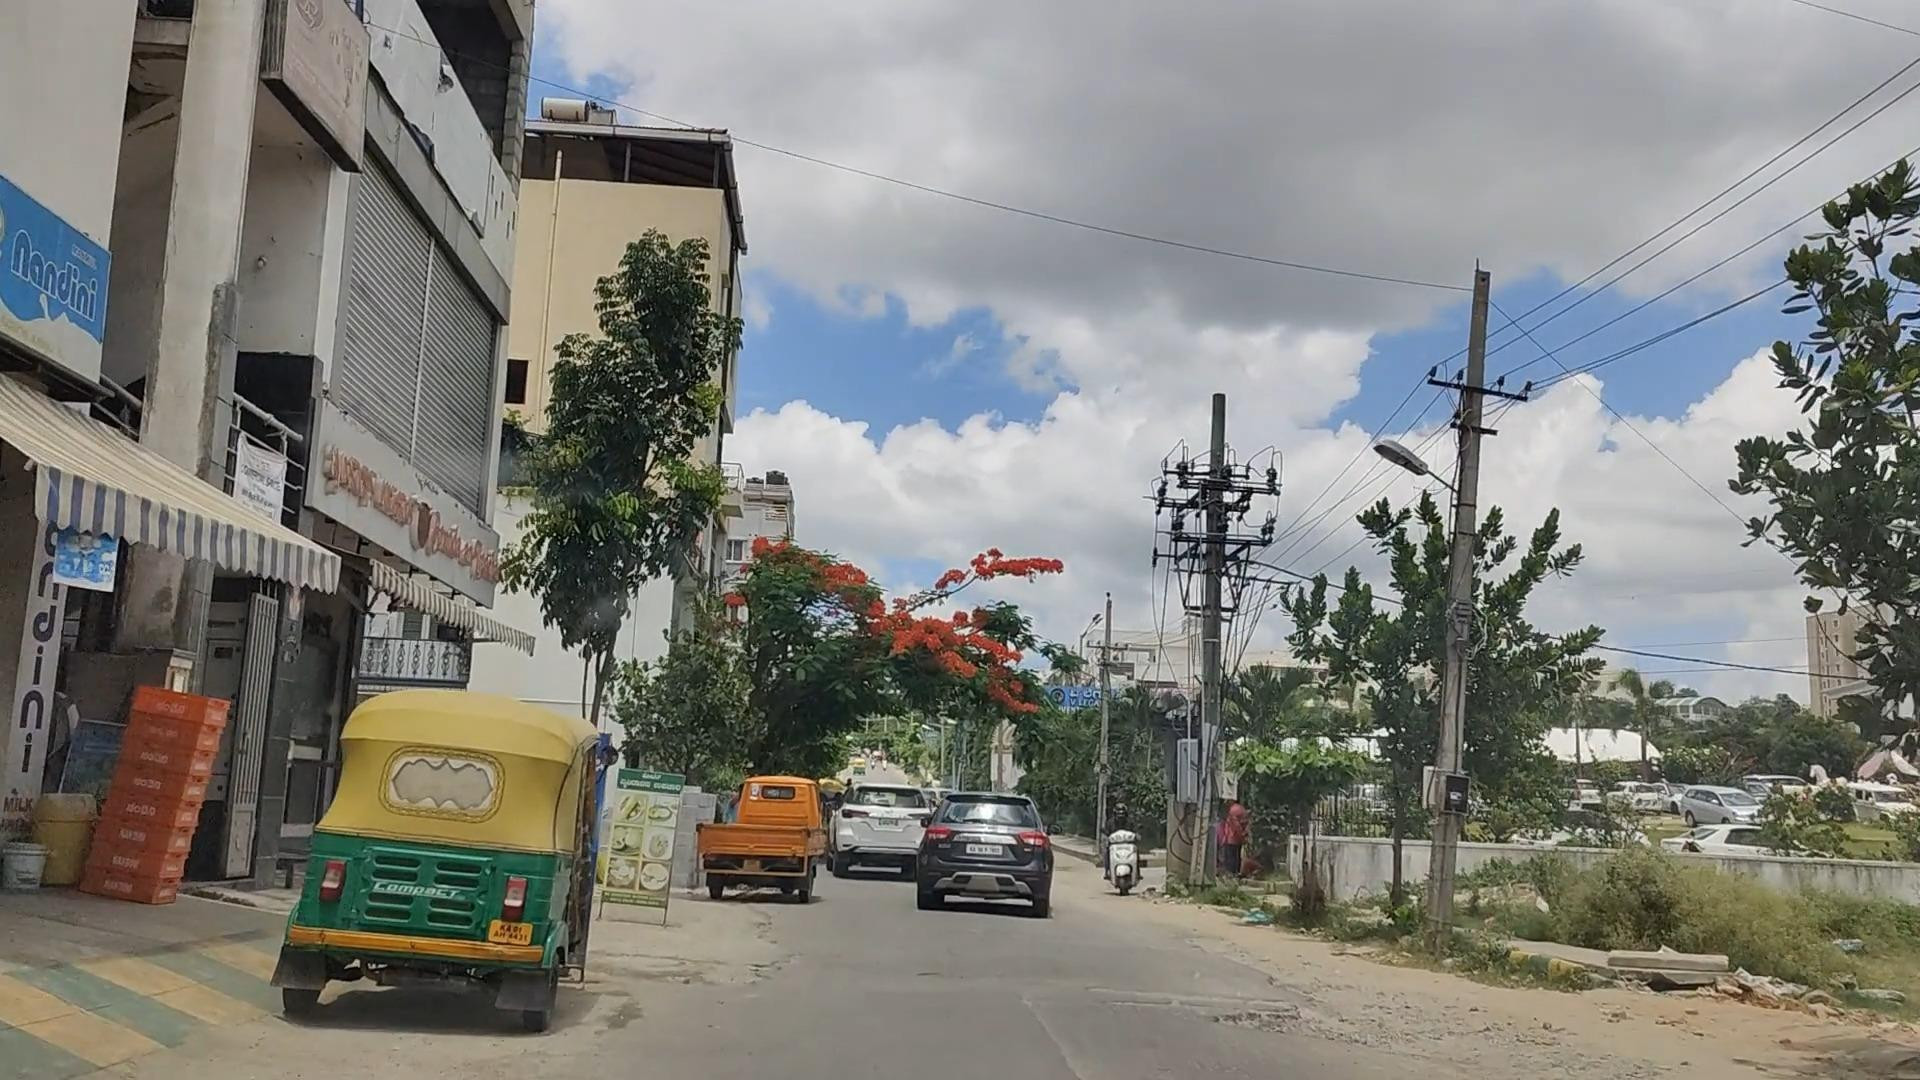RoadDamages: (997, 947, 1353, 1062), (687, 910, 853, 1002), (1319, 998, 1494, 1080)
